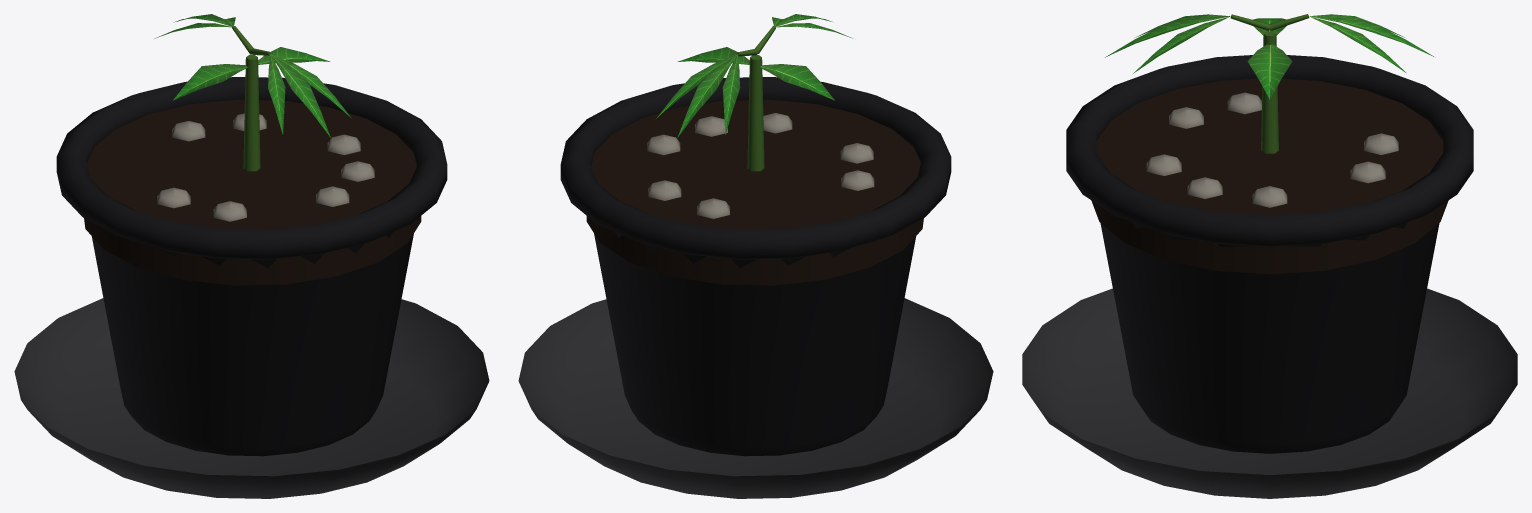
The model's file is WeedPot1.obj.
3 renders of one model, left to right at view 1: azimuth 30°, elevation 25°; view 2: azimuth 150°, elevation 25°; view 3: azimuth 270°, elevation 25°, orthographic. The views are drawn at different scales.
Bounding box in the file's own units: 0.1554 × 0.1377 × 0.1539.
